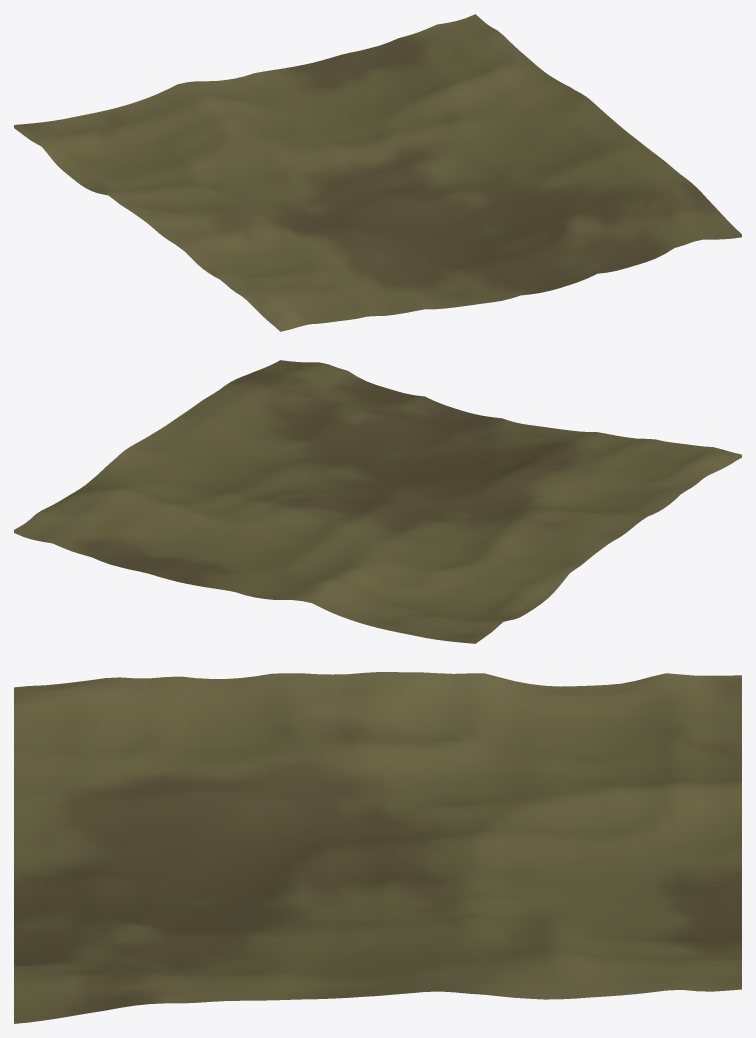
The model's file is land_m_13_07.glb.
3 views of the same model, one above another, from view 1: azimuth 30°, elevation 25°; view 2: azimuth 150°, elevation 25°; view 3: azimuth 270°, elevation 25° (orthographic). The views are drawn at different scales.
Visible parts, largest first — view 1: land_m_13_07; view 2: land_m_13_07; view 3: land_m_13_07.
Part boxes in pixels (box(x1,y1,x2,y2)): land_m_13_07: box(14, 14, 741, 331); land_m_13_07: box(14, 360, 741, 643); land_m_13_07: box(14, 672, 741, 1023).
Bounding box in the file's own units: 960 × 77.56 × 960.
